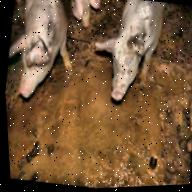boar: (83, 0, 171, 107), (0, 0, 84, 105), (65, 0, 102, 29)
